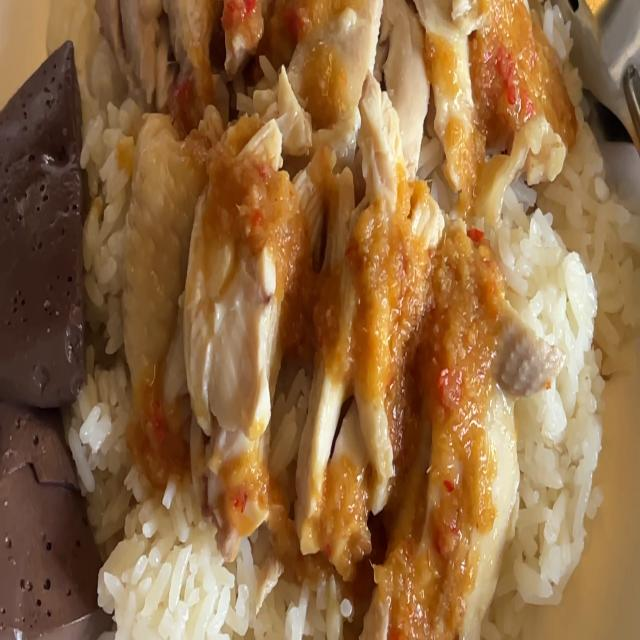boiled_chicken: (114, 0, 544, 558)
boiled_chicken_blood_jelly: (0, 29, 87, 407), (0, 394, 107, 640)
chicken_rice: (0, 0, 640, 640)
